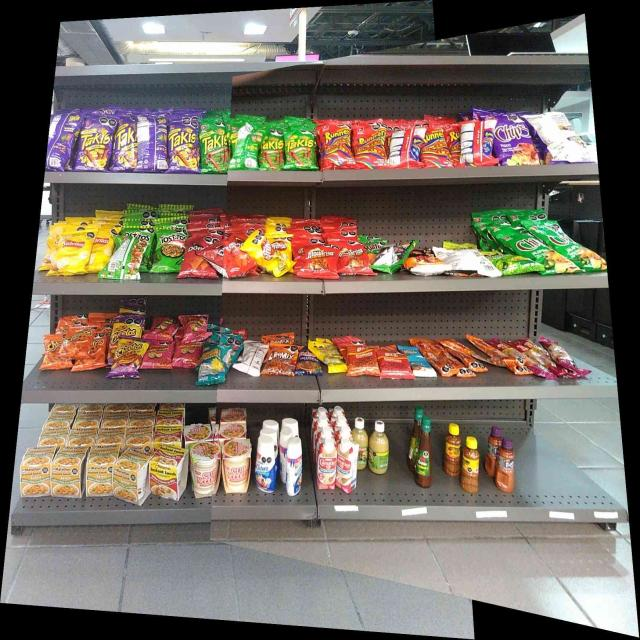bitzAlmendras: (412, 355, 434, 377)
bitzEnchilado90: (347, 344, 378, 376), (379, 348, 410, 379)
bitzEnchilado95: (435, 340, 487, 377), (491, 347, 519, 374)
bitzHabanero: (521, 340, 591, 378)
bokadosCacahuates: (299, 350, 321, 375)
botaneraChilito: (461, 434, 479, 493)
cheetosFlaminHot: (116, 338, 142, 378)
cheetosOriginal: (43, 335, 65, 369), (67, 328, 90, 356), (91, 338, 105, 369)
chipsFuego: (496, 120, 536, 166)
chipsJalapeno: (564, 238, 604, 272), (531, 236, 562, 274)
chipsPapatinas: (494, 252, 530, 272)
churrumais: (174, 340, 200, 369), (145, 340, 170, 369)
delPrimoSalsa: (369, 420, 390, 474), (358, 419, 368, 469)
doritosNacho: (186, 238, 213, 277), (216, 241, 243, 277)
fritosLimon: (254, 235, 279, 276)
hotNutsOriginal: (409, 256, 444, 275)
leoMix: (266, 344, 294, 376)
maruchanPollo: (119, 447, 149, 502), (56, 448, 84, 499), (22, 449, 52, 496), (87, 449, 116, 496)
maruchanRes: (152, 448, 188, 498)
nestleCarnation: (317, 440, 336, 490), (338, 441, 356, 492)
nestleLechera: (256, 436, 276, 494), (287, 438, 302, 495)
nissinCamaron: (191, 443, 219, 496)
nissinRes: (223, 441, 251, 492)
productoAtras: (538, 113, 590, 164), (138, 116, 167, 172), (50, 115, 75, 170), (390, 128, 423, 169), (447, 250, 490, 278), (115, 236, 142, 279), (235, 128, 259, 170), (242, 341, 263, 376), (380, 242, 404, 272)
rancheritos: (301, 245, 338, 279), (339, 240, 369, 275)
runners: (460, 121, 494, 166), (354, 125, 387, 169), (320, 125, 352, 170), (424, 130, 449, 167)
sabritasOriginal: (55, 233, 88, 275), (91, 232, 112, 264)
salsaBufalo: (416, 415, 432, 488)
semillasCalabaza: (322, 343, 342, 372)
semillasGirasol: (203, 346, 226, 383)
tajinDulce: (495, 437, 515, 492)
takisFuego: (79, 116, 111, 171), (170, 120, 199, 174), (114, 119, 136, 171)
takisOriginal: (201, 120, 228, 173), (286, 127, 316, 169), (261, 136, 284, 170)
tostitos: (155, 228, 182, 271)
